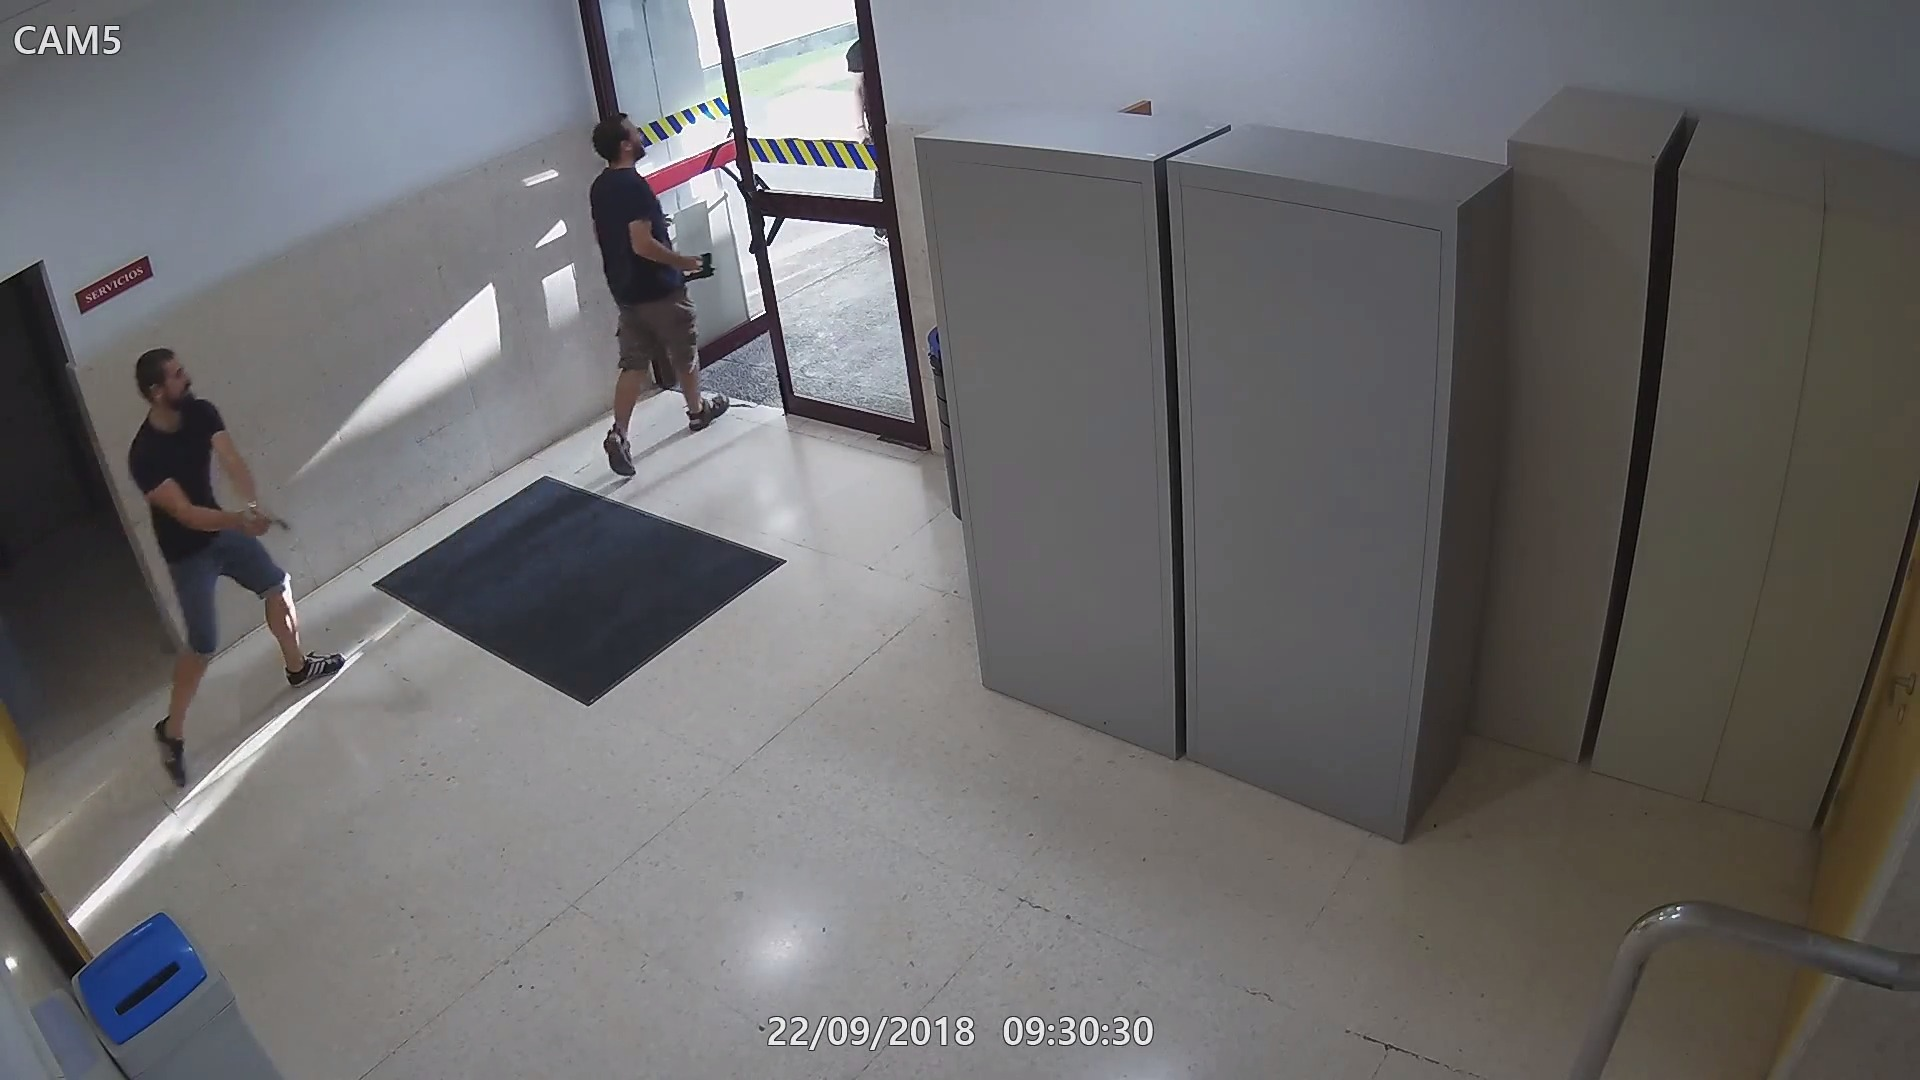Handgun: (237, 498, 290, 541), (682, 248, 719, 289)
